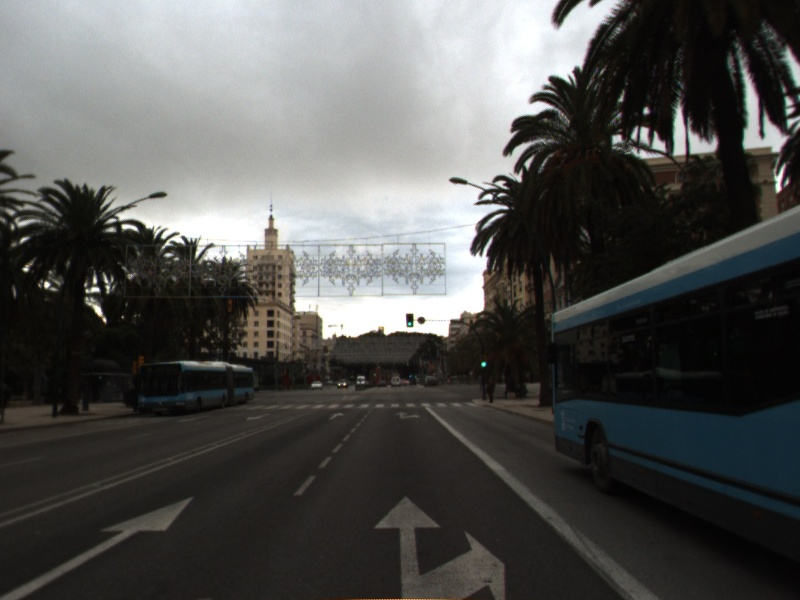STRAIGHT: (1, 494, 197, 600), (327, 410, 346, 421)
STRAIGHT_RIGHT: (372, 494, 507, 600), (392, 410, 423, 420)
